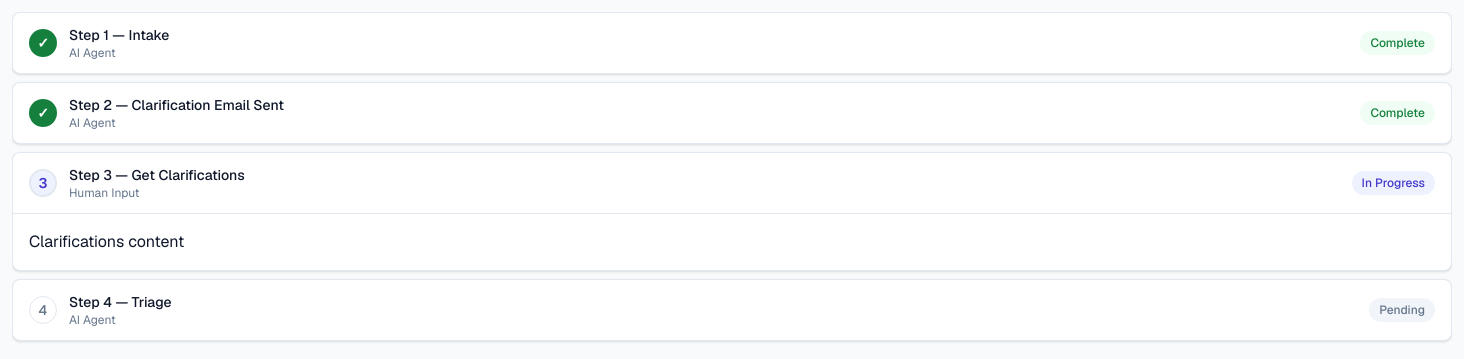
Test case: WorkflowStepList › toggles a step's content when its header is clicked
This screenshot has width=1464, height=359.
Click the button "✓ Step 1 — Intake AI Agent Complete": {"x": 119, "y": 35} 13,13 -> 1451,73
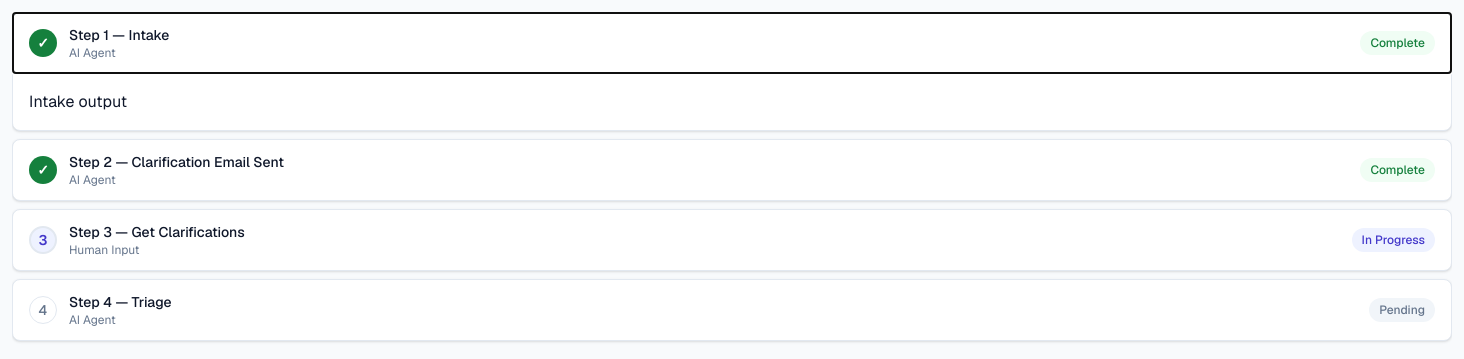
Now the text "Intake output" is shown, box 29,91 -> 127,112
